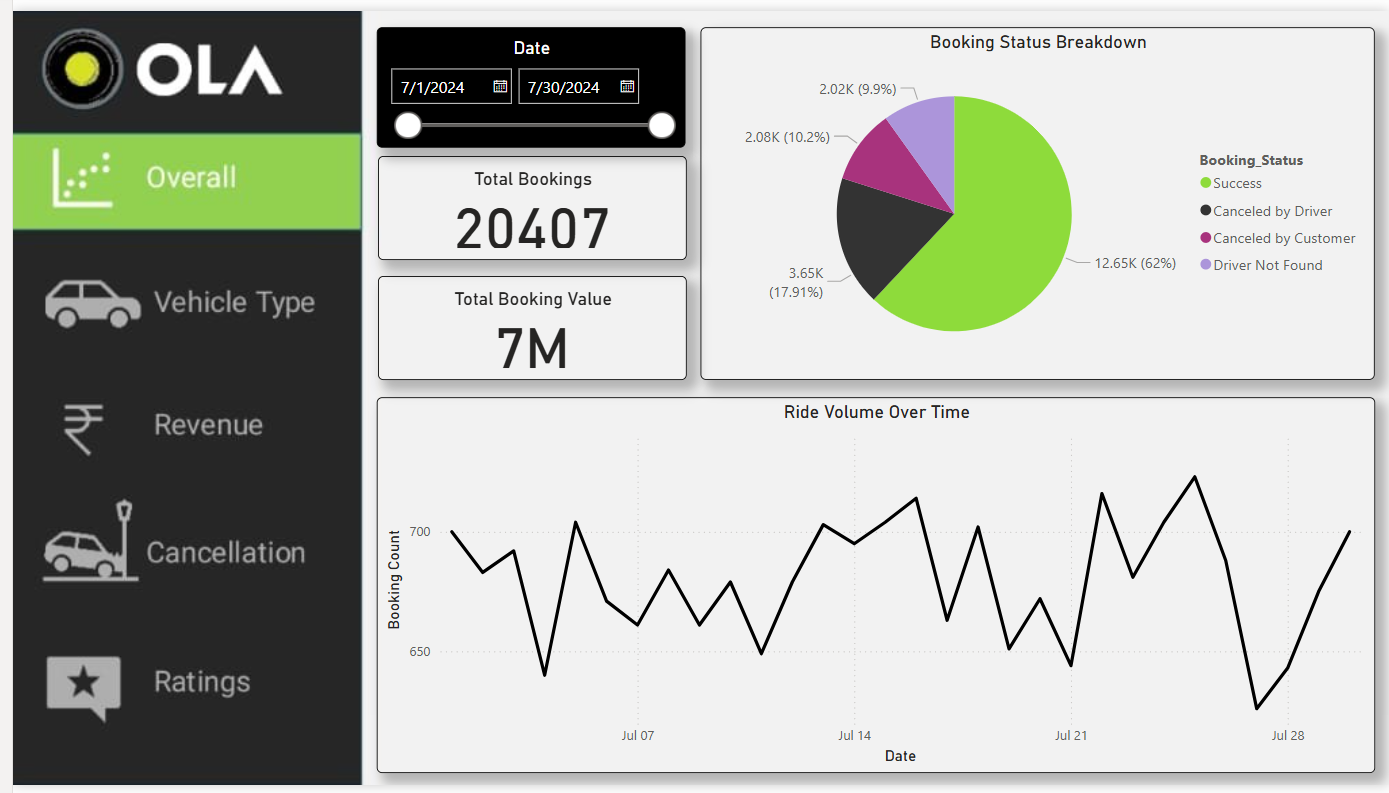

What the dashboard file says about the page in this screenshot:
{"tool":"powerbi","page":{"name":"Overall ","canvas":[1280,720],"ordinal":0},"visuals":[{"type":"actionButton","box":[0,223.2,324.5,90.5],"z":0},{"type":"actionButton","box":[1.2,223.2,324.5,90.5],"z":1000},{"type":"actionButton","box":[0,231.6,324.5,90.5],"z":2000},{"type":"actionButton","box":[0,342.6,324.5,91.7],"z":3000},{"type":"actionButton","box":[0,450,323.3,91.7],"z":4000},{"type":"actionButton","box":[0,577.9,325.7,90.5],"z":5000},{"type":"lineChart","title":"Ride Volume Over Time","fields":{"Y":["CountNonNull(July_Cleaned.Booking_ID)"],"Category":["July_Cleaned.Date"]},"box":[337.8,359.5,929,349.9],"z":6000},{"type":"pieChart","title":"Booking Status Breakdown","fields":{"Category":["July_Cleaned.Booking_Status"],"Y":["CountNonNull(July_Cleaned.Booking_Status)"]},"box":[639.5,15.1,627.1,328],"z":7000},{"type":"slicer","title":"Date","fields":{"Values":["July_Cleaned.Date"]},"box":[338.4,15.1,287.2,111.6],"z":8000},{"type":"card","title":"Total Bookings","fields":{"Values":["CountNonNull(July_Cleaned.Booking_ID)"]},"box":[339,135.1,287.1,96.5],"z":9000},{"type":"card","title":"Total Booking Value","fields":{"Values":["Sum(July_Cleaned.Booking_Value)"]},"box":[339,246.1,287.1,96.5],"z":10000}]}

Visuals, with their boxes in screenshot pixels (x1, y1, x2, y2), scaled from the page's 1280x720 canvas onto the 1389x793 screenshot:
actionButton: pyautogui.locateOnScreen(0, 246, 352, 346)
actionButton: pyautogui.locateOnScreen(1, 246, 353, 346)
actionButton: pyautogui.locateOnScreen(0, 255, 352, 355)
actionButton: pyautogui.locateOnScreen(0, 377, 352, 478)
actionButton: pyautogui.locateOnScreen(0, 496, 351, 597)
actionButton: pyautogui.locateOnScreen(0, 636, 353, 736)
"Ride Volume Over Time" lineChart: pyautogui.locateOnScreen(367, 396, 1375, 781)
"Booking Status Breakdown" pieChart: pyautogui.locateOnScreen(694, 17, 1374, 378)
"Date" slicer: pyautogui.locateOnScreen(367, 17, 679, 140)
"Total Bookings" card: pyautogui.locateOnScreen(368, 149, 679, 255)
"Total Booking Value" card: pyautogui.locateOnScreen(368, 271, 679, 377)
